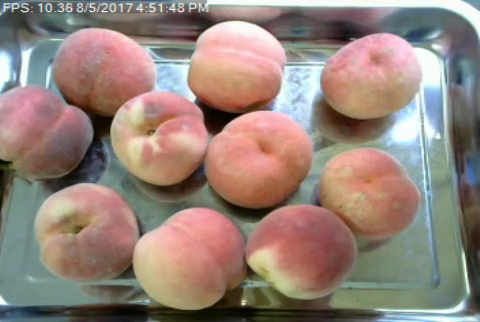Peach: (135, 206, 243, 310), (245, 203, 357, 301), (34, 182, 138, 283), (205, 110, 309, 207), (316, 146, 420, 241), (108, 88, 208, 185), (186, 17, 286, 112), (51, 26, 156, 115), (321, 32, 422, 120)
